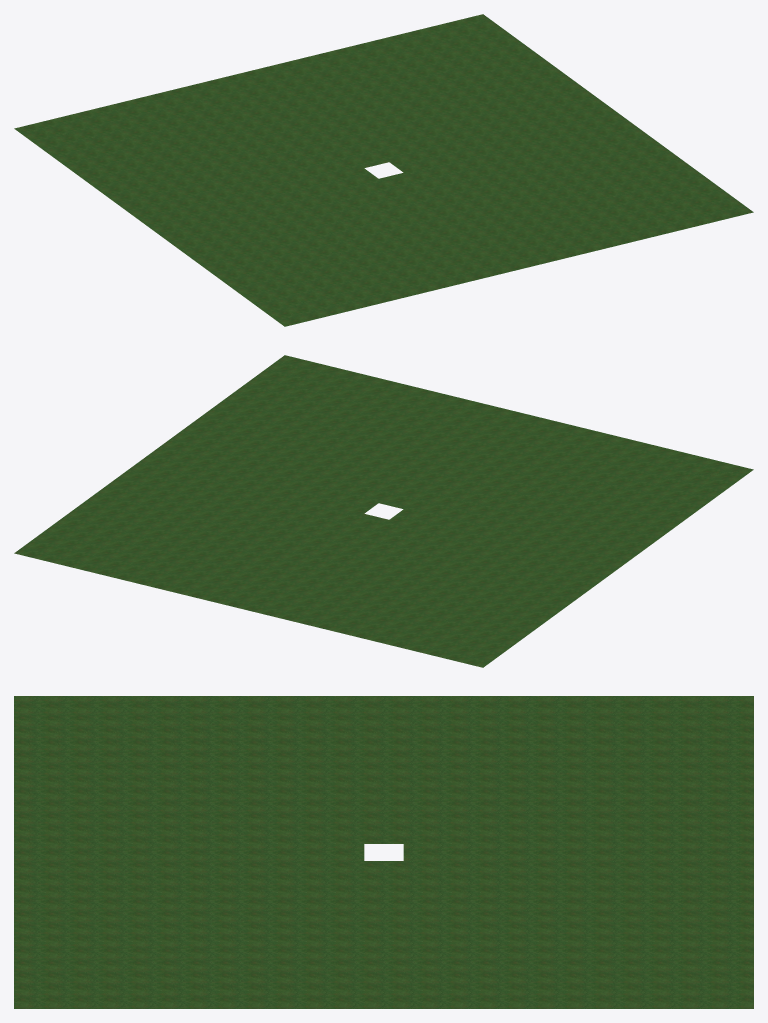
The model's file is Grass Terrain Cut.fbx.
3 renders of one model, top to bottom at view 1: azimuth 30°, elevation 25°; view 2: azimuth 150°, elevation 25°; view 3: azimuth 270°, elevation 25°, orthographic. The views are drawn at different scales.
Parts seen in each view (by area): view 1: Ground; view 2: Ground; view 3: Ground.
Boxes of the visible parts, x1,y1,x2,y2 form: Ground: (14, 14, 753, 326); Ground: (14, 355, 753, 667); Ground: (14, 696, 753, 1008).
Bounding box in the file's own units: 37527 × 0.00611 × 37527.
